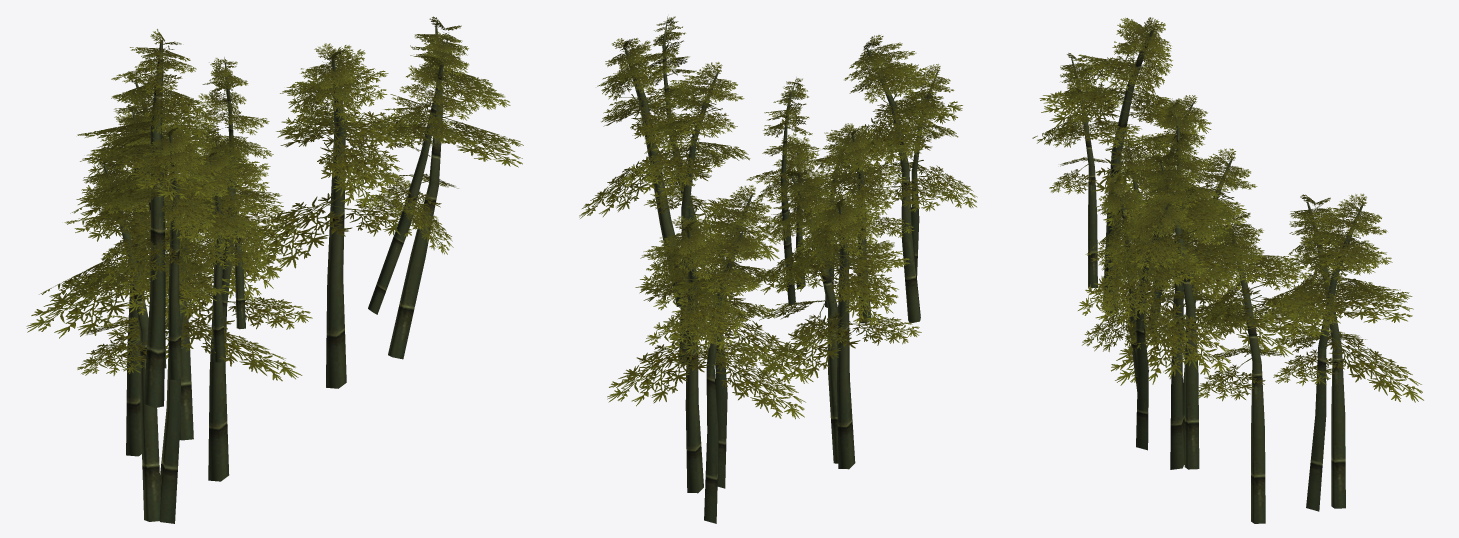
Rendered from Area_05_11.fbx.
3 views of the same model, side by side, from view 1: azimuth 30°, elevation 25°; view 2: azimuth 150°, elevation 25°; view 3: azimuth 270°, elevation 25° (orthographic). The views are drawn at different scales.
Parts seen in each view (by area): view 1: Area_05_11; view 2: Area_05_11; view 3: Area_05_11.
Boxes of the visible parts, bbox=[...] form: Area_05_11: bbox=[26, 16, 523, 523]; Area_05_11: bbox=[579, 16, 977, 523]; Area_05_11: bbox=[1032, 17, 1423, 523].
Size of the model in its own units: 2615 by 2874 by 2432.
